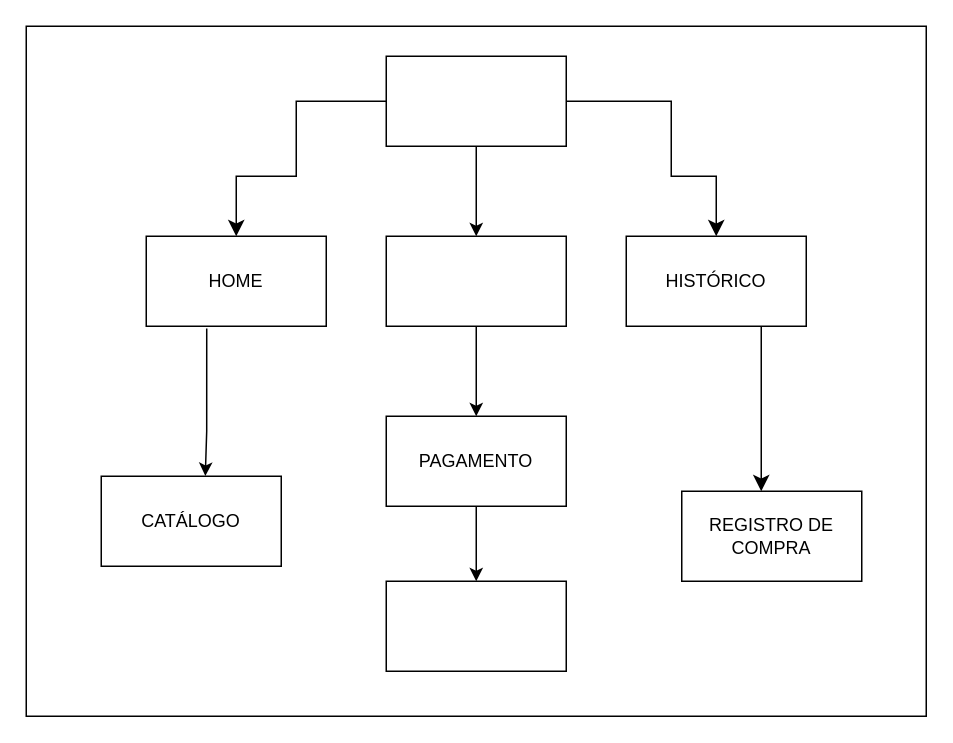
The diagram is 953 pixels wide and 743 high, and some of its shapes have lost their labels. Here are the shapes that lost their labels. From the top down, the centre of each, then its label:
At pixel 475 100: "MERCADINHO ONLINE".
At pixel 475 280: "CARRINHO".
At pixel 475 625: "RESUMO DE COMPRA".
